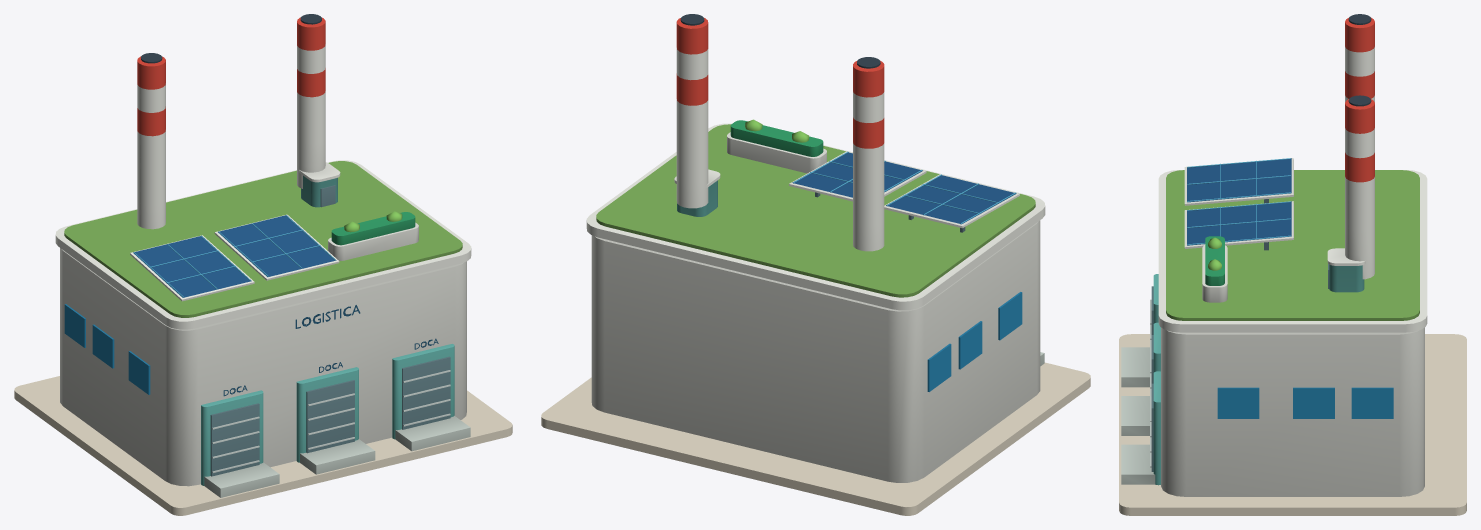
File: factory-low.glb
The picture shows the model from 3 angles, left to right: view 1: azimuth 30°, elevation 25°; view 2: azimuth 150°, elevation 25°; view 3: azimuth 270°, elevation 25°; orthographic projection. The views are drawn at different scales.
Parts seen in each view (by area): view 1: clean industrial shell, green roof, industrial paved footing, roof access hatch, photovoltaic cells, roof access, loading threshold, factory exhaust.004, factory side glass, roller rib, planter foliage, solar cell division (+1 smaller); view 2: clean industrial shell, green roof, industrial paved footing, photovoltaic cells, factory exhaust.004, factory side glass, planter foliage, solar cell division; view 3: clean industrial shell, green roof, industrial paved footing, photovoltaic cells, factory side glass, loading threshold, factory exhaust.004, roof access, solar cell division, planter foliage, roof access hatch, stack mouth.
Part boxes in pixels (box(x1,y1,x2,y2)): clean industrial shell: box(55, 44, 471, 486); green roof: box(64, 161, 462, 317); industrial paved footing: box(14, 376, 512, 515); roof access hatch: box(210, 185, 450, 476); photovoltaic cells: box(133, 215, 336, 297); roof access: box(201, 175, 454, 485); loading threshold: box(204, 416, 470, 497); factory exhaust.004: box(137, 17, 325, 136); factory side glass: box(64, 304, 150, 394); roller rib: box(212, 370, 450, 472); planter foliage: box(331, 212, 415, 245); solar cell division: box(133, 215, 335, 297); clean industrial shell: box(586, 48, 1045, 482); green roof: box(596, 124, 1035, 297); industrial paved footing: box(541, 362, 1090, 515); photovoltaic cells: box(792, 152, 1016, 224); factory exhaust.004: box(676, 18, 884, 148); factory side glass: box(927, 292, 1022, 391); planter foliage: box(730, 120, 823, 156); solar cell division: box(793, 151, 1015, 224); clean industrial shell: box(1158, 47, 1427, 496); green roof: box(1166, 170, 1419, 320); industrial paved footing: box(1119, 334, 1466, 515); photovoltaic cells: box(1187, 158, 1291, 245); factory side glass: box(1217, 387, 1393, 418); loading threshold: box(1121, 347, 1155, 484); factory exhaust.004: box(1345, 17, 1374, 182); roof access: box(1153, 265, 1364, 485); solar cell division: box(1187, 158, 1290, 245); planter foliage: box(1205, 236, 1224, 285); roof access hatch: box(1151, 199, 1329, 471); stack mouth: box(1348, 14, 1371, 106).
Bounding box in the file's own units: 4.9 × 4.87 × 4.15.
